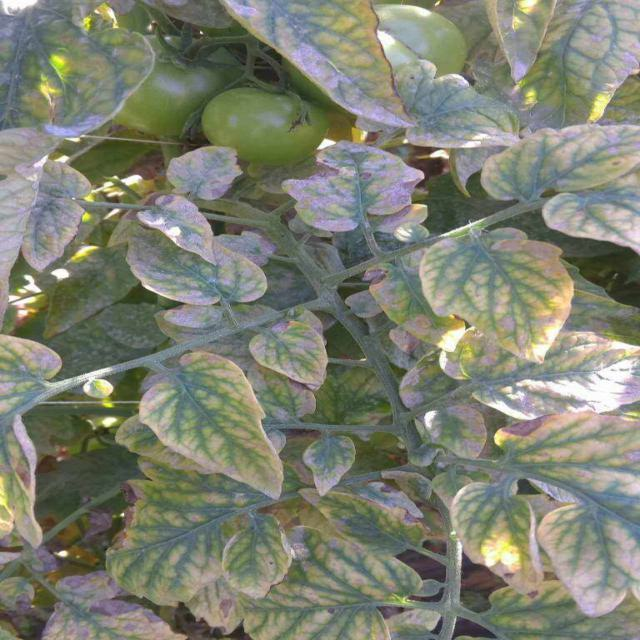Leaf_Mold: (111, 460, 423, 640), (2, 10, 152, 324), (498, 412, 640, 617), (216, 1, 417, 129), (461, 289, 640, 415), (142, 351, 284, 501), (470, 1, 640, 122), (425, 230, 576, 364), (280, 139, 429, 232), (1, 335, 63, 547), (392, 58, 521, 158), (124, 224, 262, 312), (487, 123, 640, 199), (451, 483, 544, 599), (362, 248, 465, 352), (47, 571, 187, 640), (217, 508, 292, 598), (540, 191, 640, 257), (141, 192, 221, 268), (486, 1, 554, 85), (252, 319, 335, 384), (163, 142, 241, 198), (422, 404, 490, 464), (308, 429, 355, 497)
